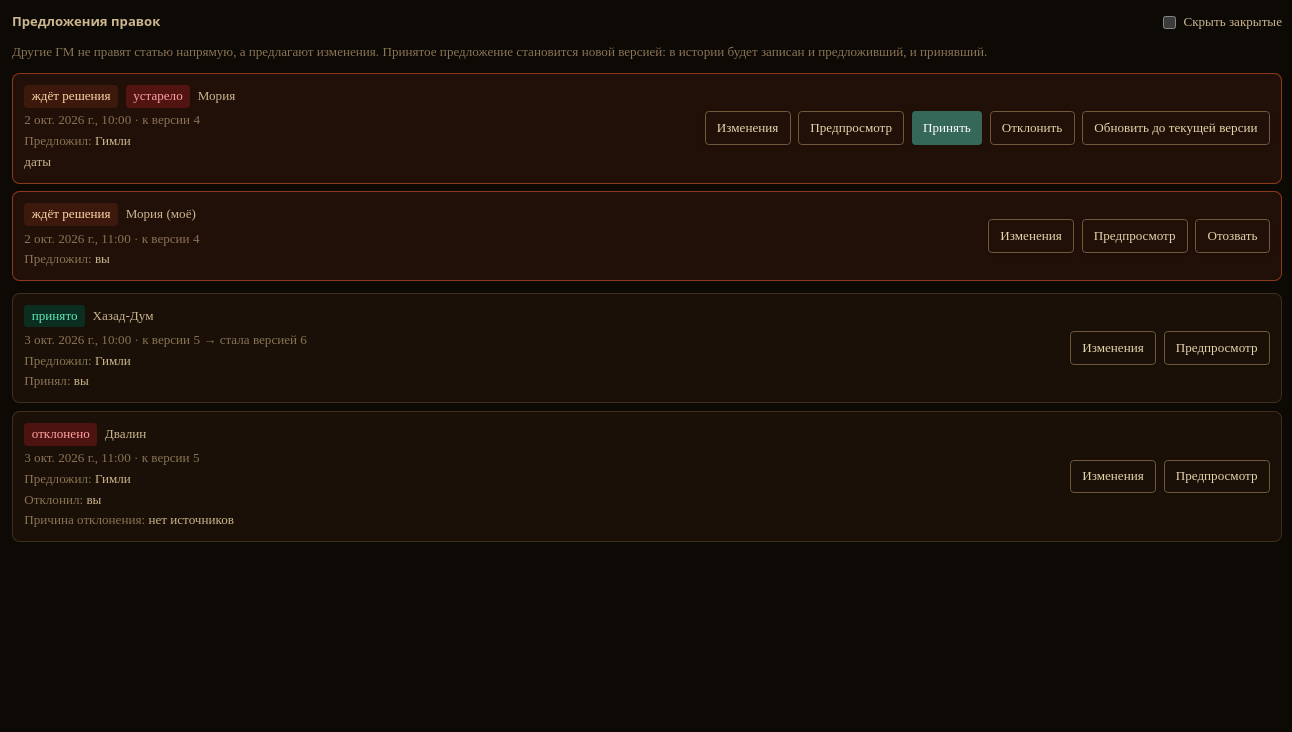
Scenario: ArticleProposals › accepts a stale proposal with a merge and explains conflicts to the reviewer
Check: the text "устарело" is shown, box [126,85,190,108]
Click the button "Принять".
click(947, 128)  # box [912,111,982,145]
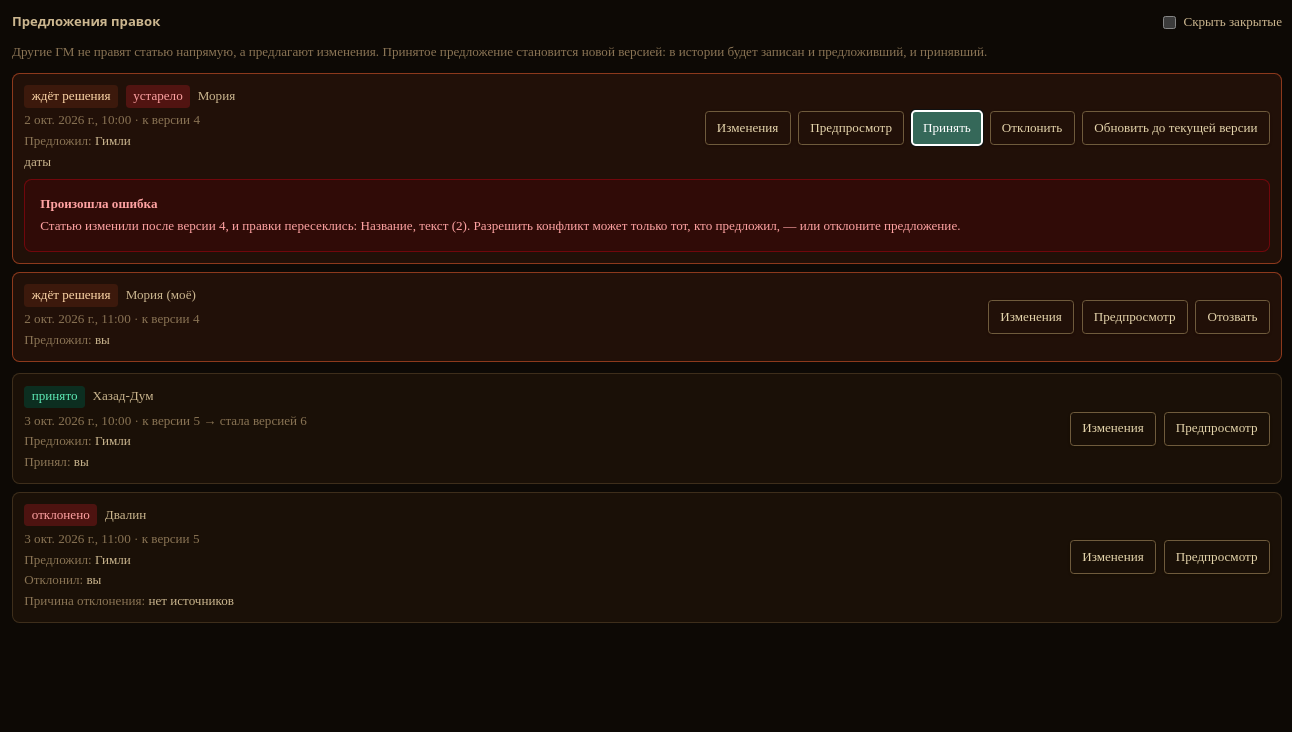
Check: the text "правки пересеклись: Название, текст (2). Разрешить конфликт может только тот, кто предложил" is shown, box [40,218,960,233]
